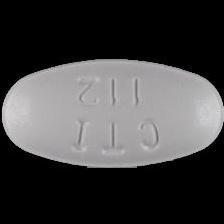51655-678: (0, 0, 224, 224)
